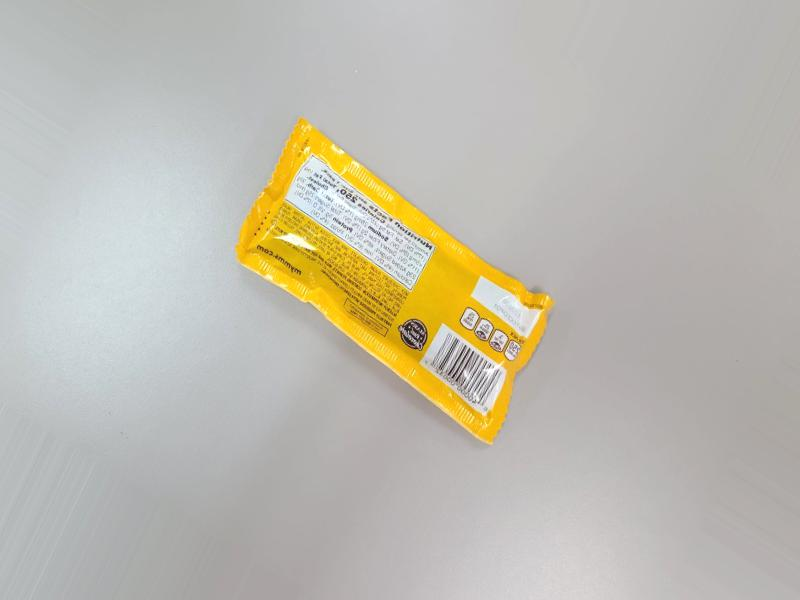m&m: (220, 117, 571, 449)
